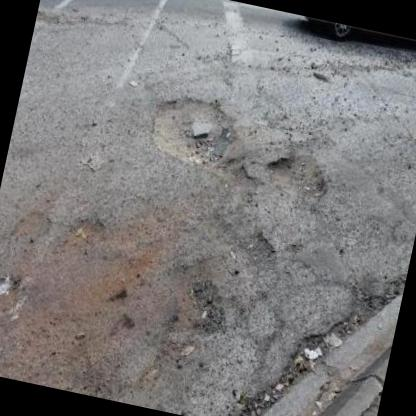pothole: (225, 271, 400, 416), (142, 87, 246, 176), (258, 144, 333, 212), (163, 272, 234, 340)
